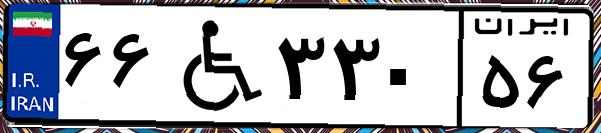0: (385, 28, 445, 110)
3: (270, 28, 330, 110), (330, 28, 385, 110)
5: (475, 38, 525, 113)
6: (57, 26, 110, 100), (525, 38, 570, 115), (110, 28, 158, 98)
ژ (معلولین و جانبازان): (158, 12, 270, 120)
